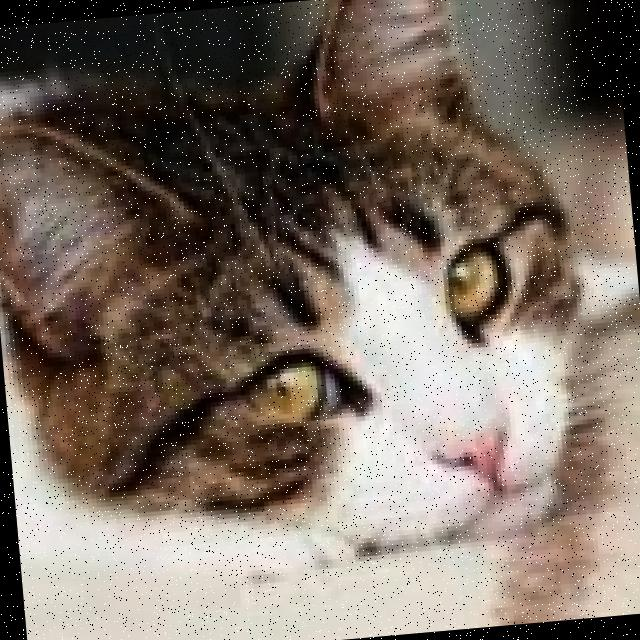Sad: (187, 234, 574, 568)
